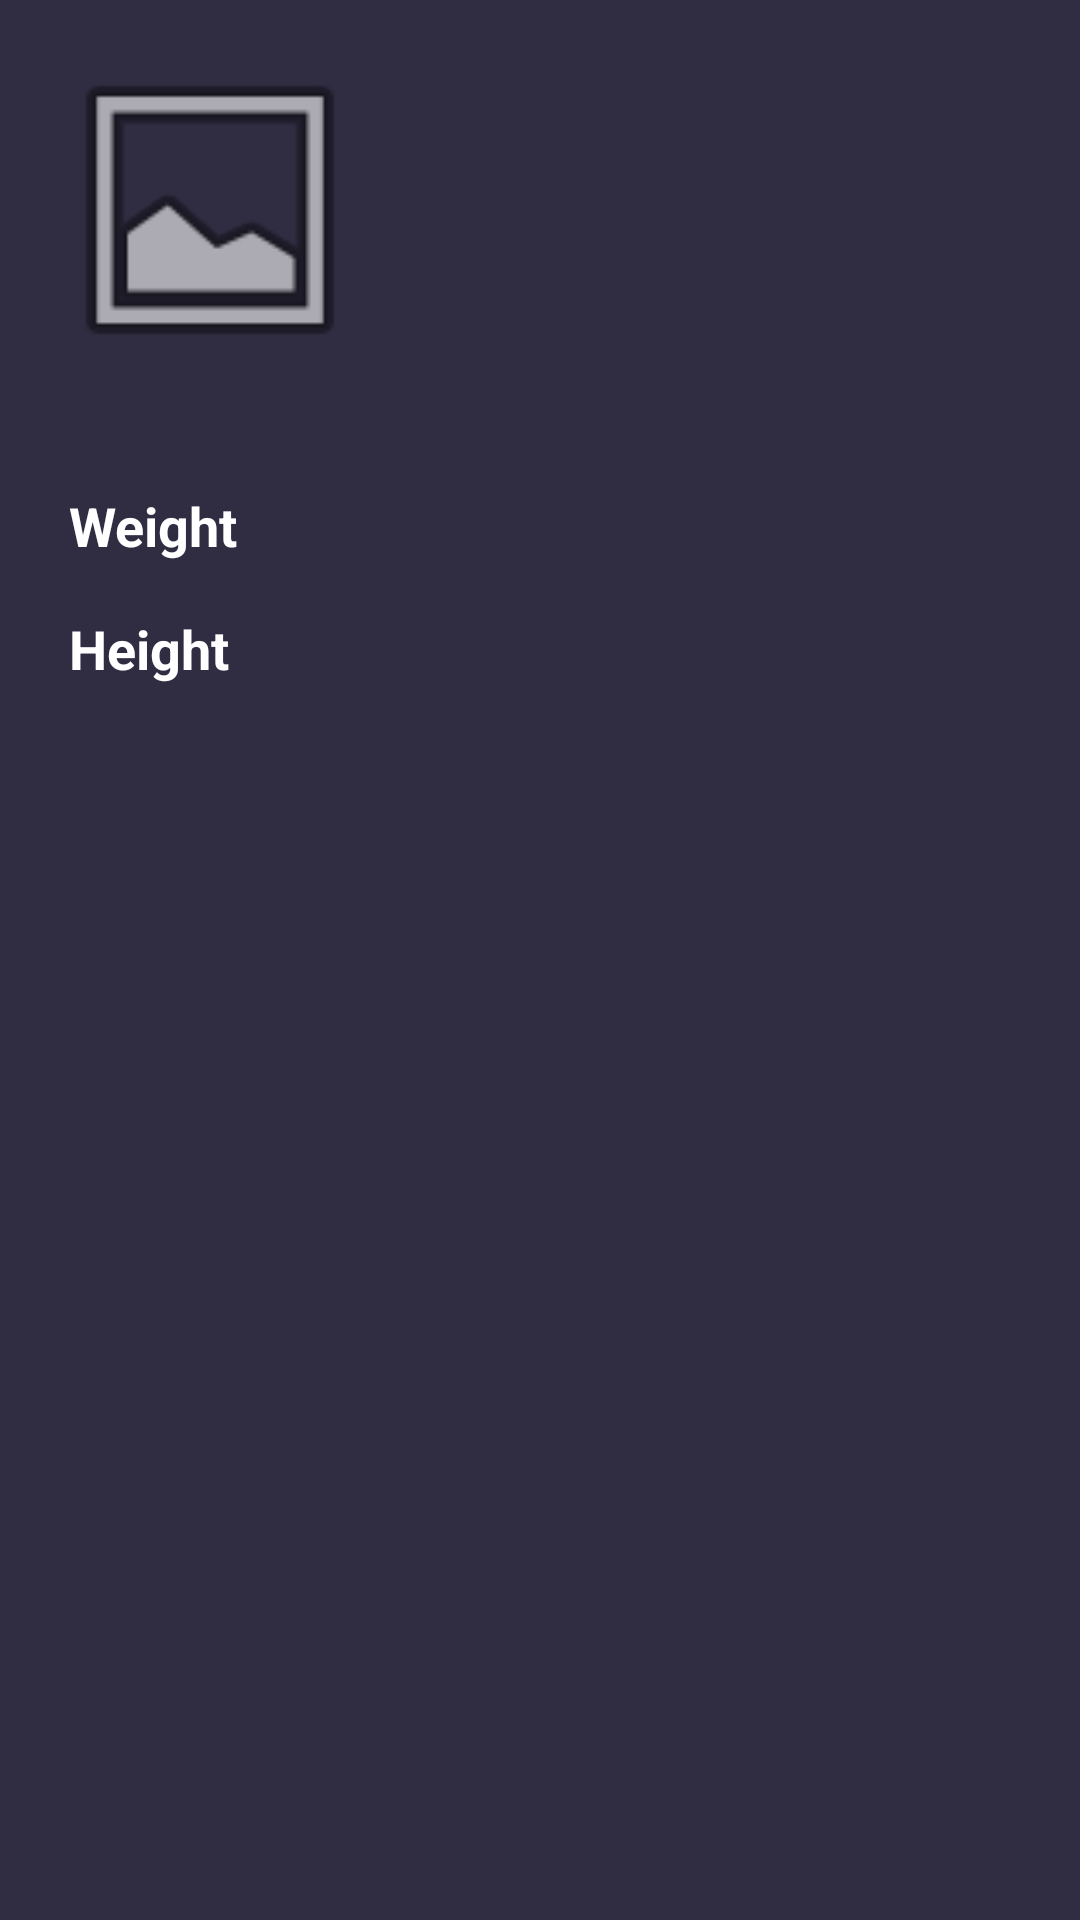

Icons on this 1080×1920 Android screen, each with its box as (x1, y1, x2, y2):
gallery: (88, 88, 332, 332)
